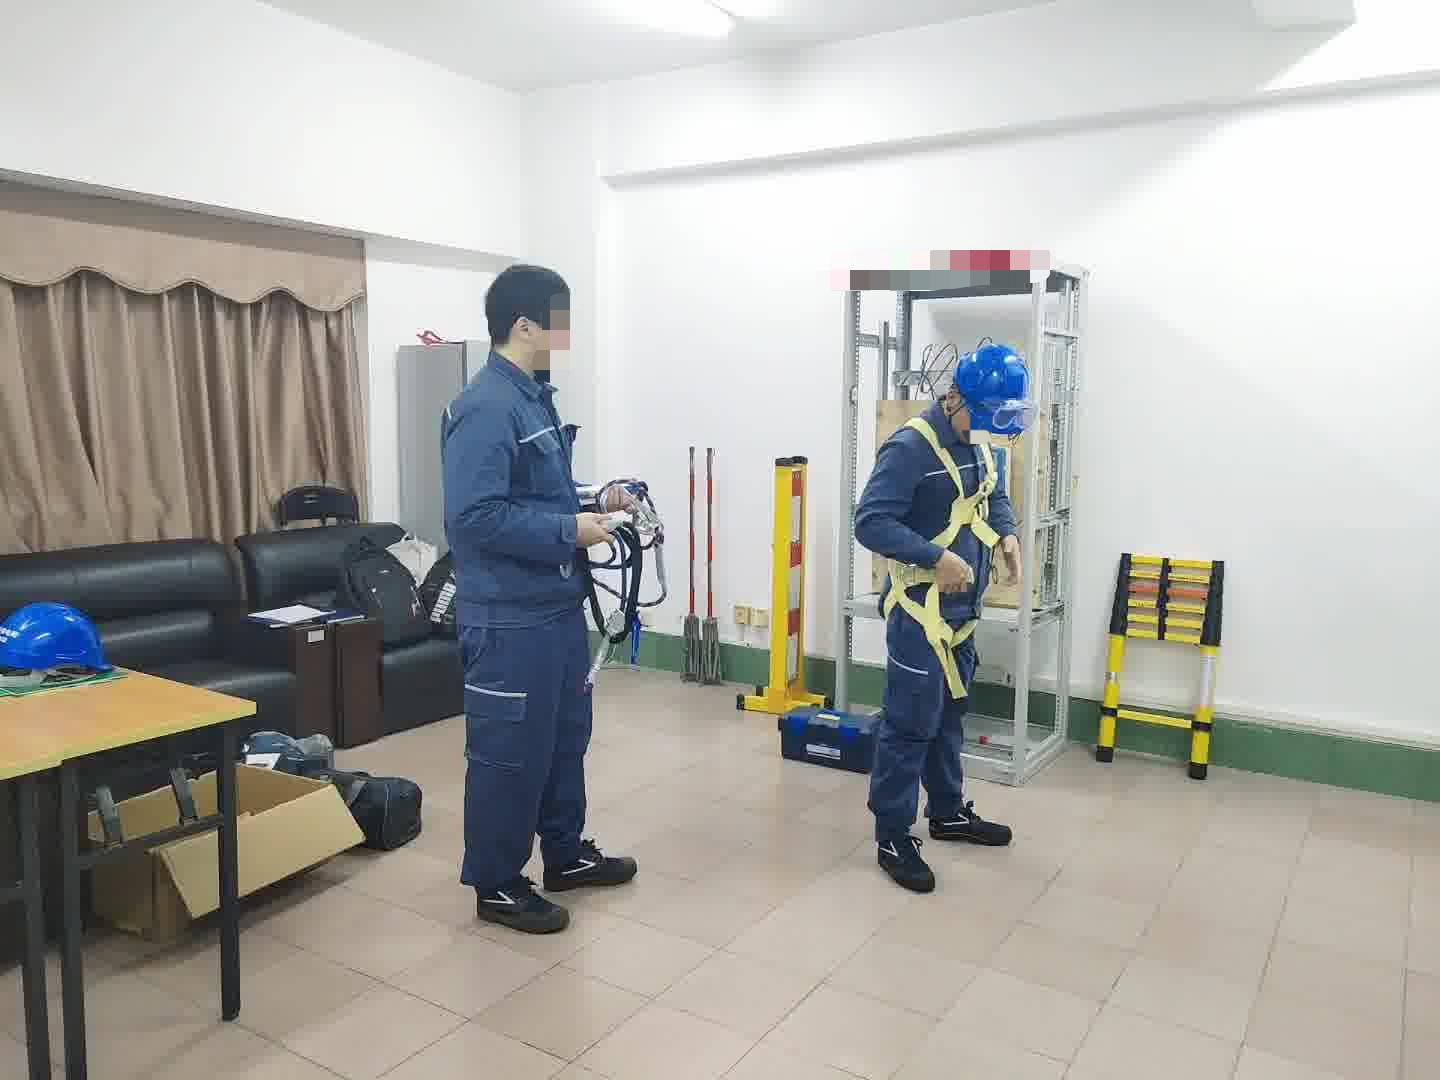halt: (954, 341, 1033, 442)
noear: (508, 314, 549, 356)
unhalt: (483, 265, 581, 376)
